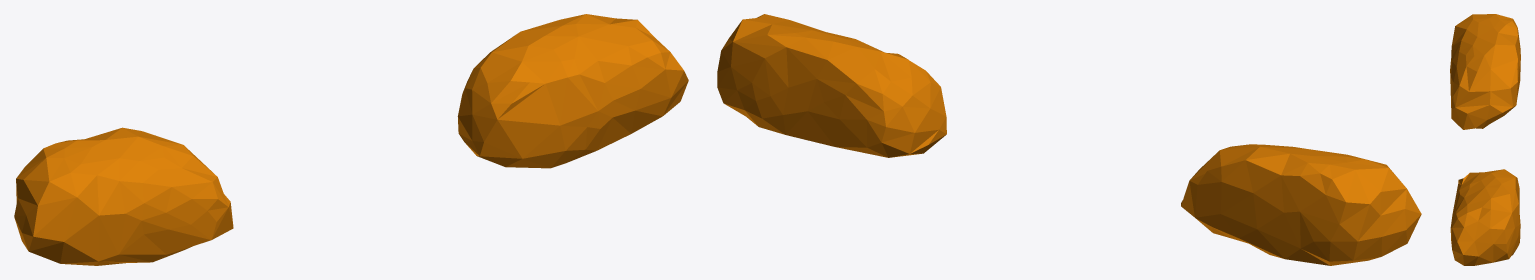
File: 231-11m-area 11 of cortex, medial part-('1.0000', '0.5725', '0.0000').obj
3 views of the same model, side by side, from view 1: azimuth 30°, elevation 25°; view 2: azimuth 150°, elevation 25°; view 3: azimuth 270°, elevation 25° (orthographic). The views are drawn at different scales.
Size of the model in its own units: 118 by 18.82 by 16.36.
